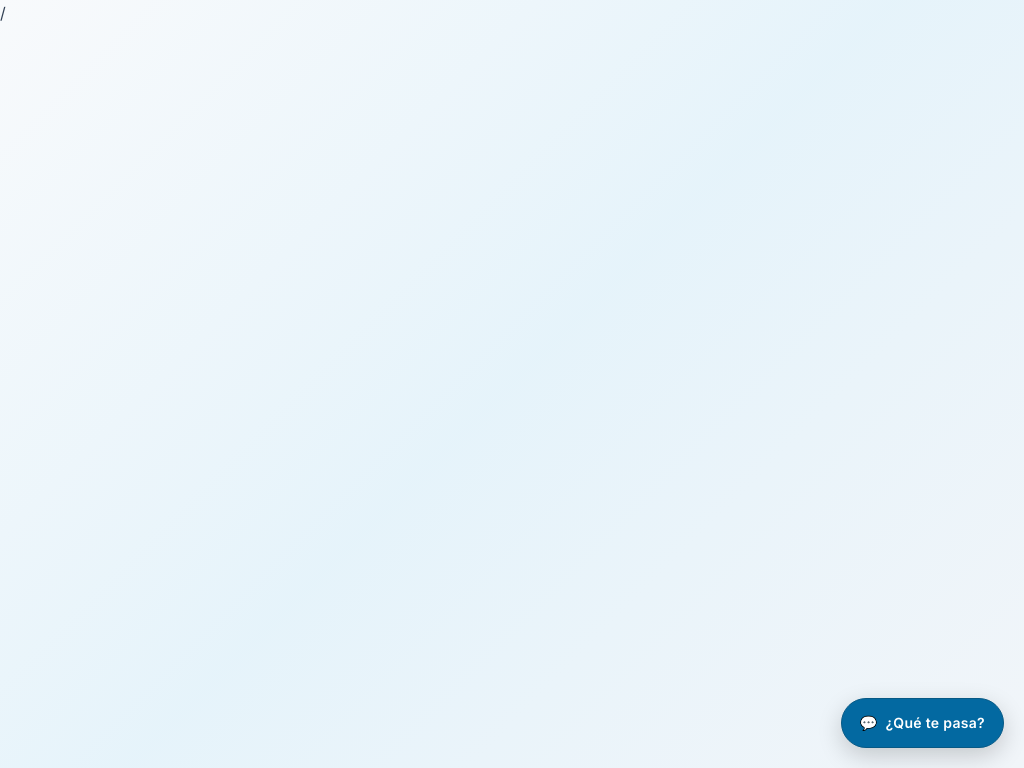
Test case: AsistenteSalud › una urgencia se muestra destacada y sin botón para sacar turno
Click the button "💬 ¿Qué te pasa?" at (922, 723), box [841,698,1004,748]
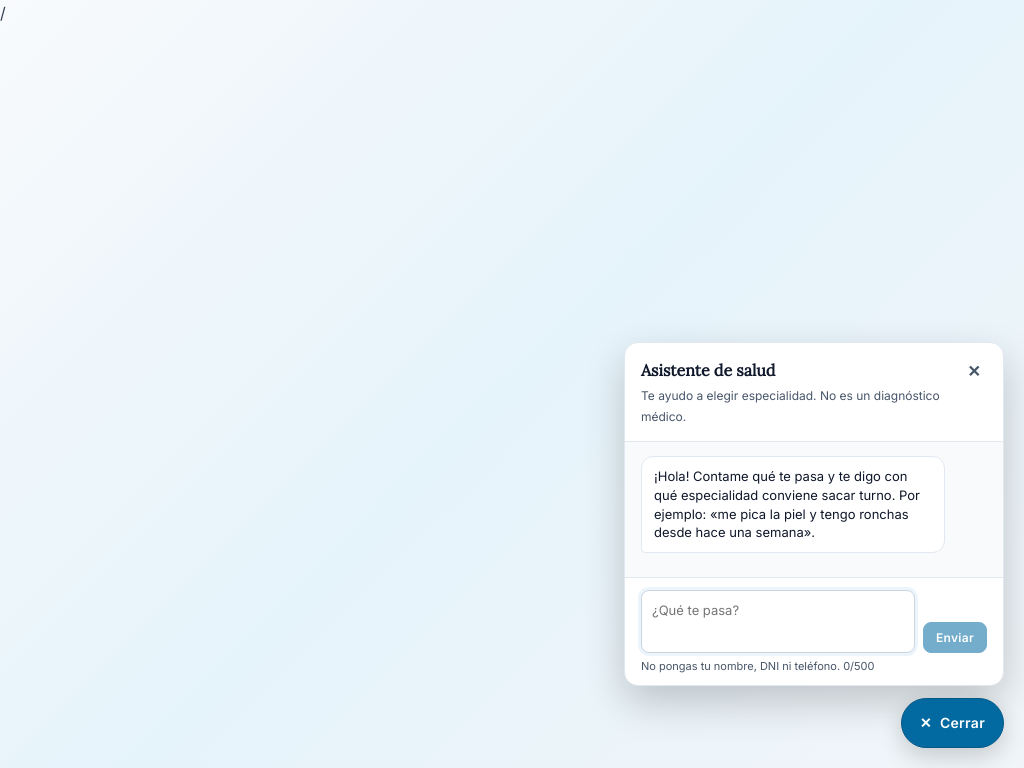
Type "Me duele el pecho" into the text box named "Contanos qué te pasa" at (778, 621), box [641,590,915,652]
Then press Enter
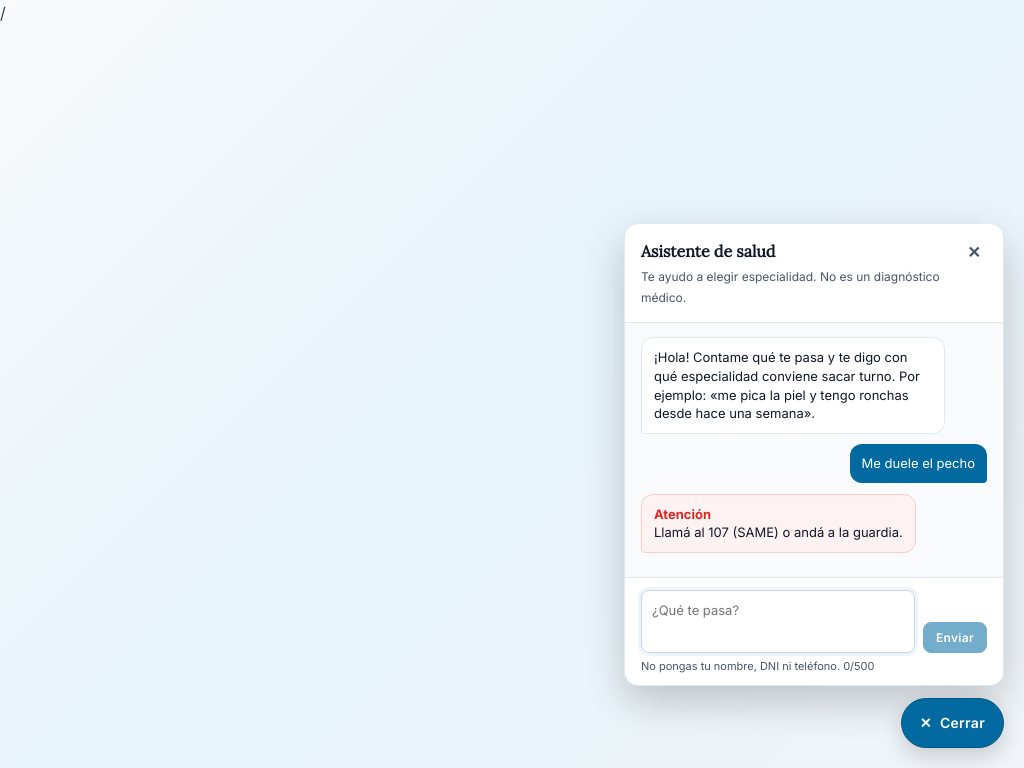
Expected: the text "Atención" is shown, [654,506,711,522]
Expected: the element named "Conversación con el asistente" shows "107", [654,524,903,540]
